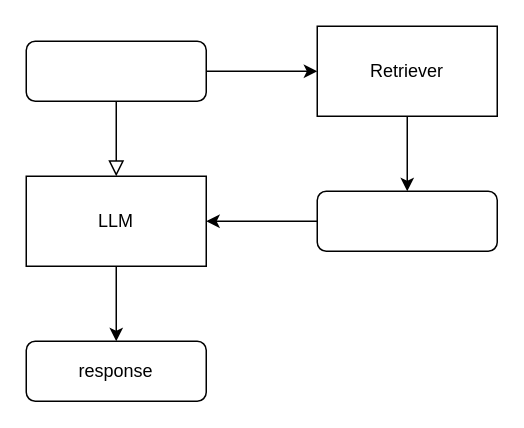
This 524x428 diagram has some shape labels left out. The centre of each missing label's shape, as x and y in pixels:
Top-k documents: [406,220]
User query: [115,70]
